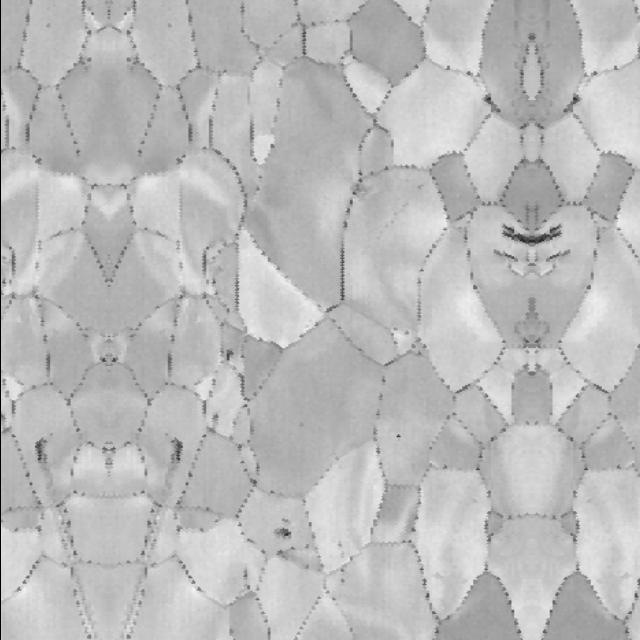good_void: (497, 221, 532, 247), (532, 221, 567, 247), (167, 435, 188, 472), (29, 435, 50, 472), (213, 344, 239, 368), (271, 518, 292, 542), (482, 93, 502, 115), (562, 93, 582, 115), (494, 249, 521, 264), (543, 249, 570, 264), (173, 152, 187, 171), (30, 152, 44, 171), (209, 410, 222, 430), (0, 410, 8, 430), (335, 538, 345, 553), (164, 20, 174, 31), (43, 20, 53, 31), (416, 181, 425, 193), (297, 419, 307, 429), (393, 431, 402, 440)
